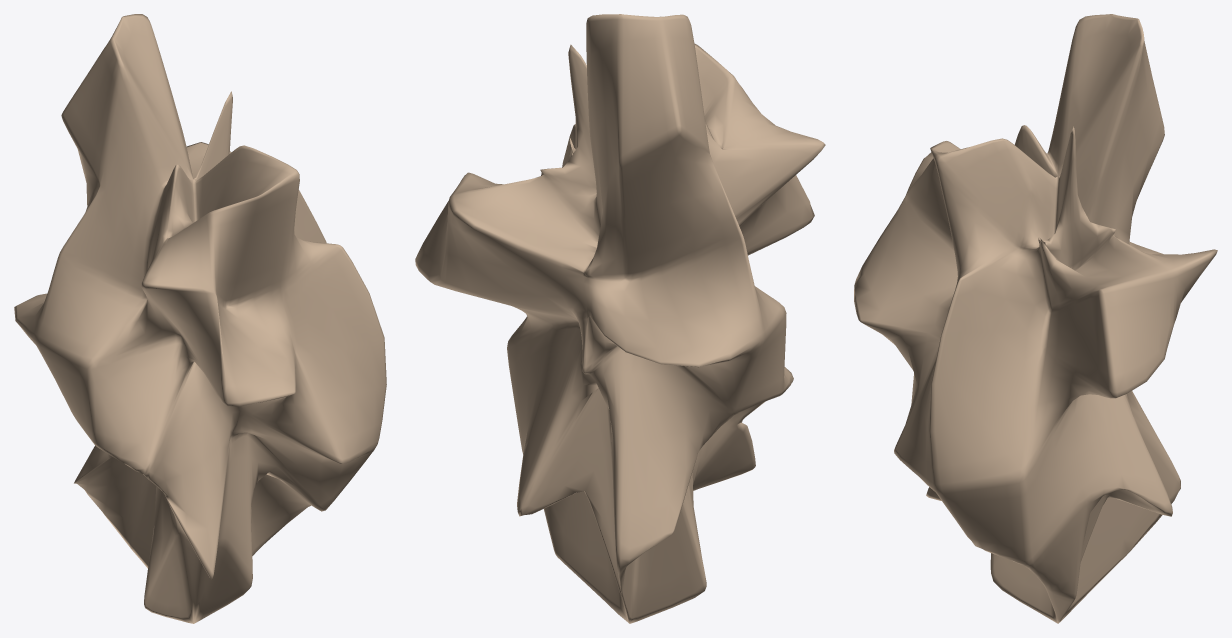
File: PROP_PineCone_v2.glb
3 views of the same model, side by side, from view 1: azimuth 30°, elevation 25°; view 2: azimuth 150°, elevation 25°; view 3: azimuth 270°, elevation 25° (orthographic). The views are drawn at different scales.
Visible parts, largest first — view 1: PROP_PineCone_v2; view 2: PROP_PineCone_v2; view 3: PROP_PineCone_v2.
Part boxes in pixels (box(x1,y1,x2,y2)): PROP_PineCone_v2: box(14, 14, 386, 623); PROP_PineCone_v2: box(415, 14, 825, 623); PROP_PineCone_v2: box(854, 14, 1217, 623).
Size of the model in its own units: 0.5613 by 1.04 by 0.5799.
